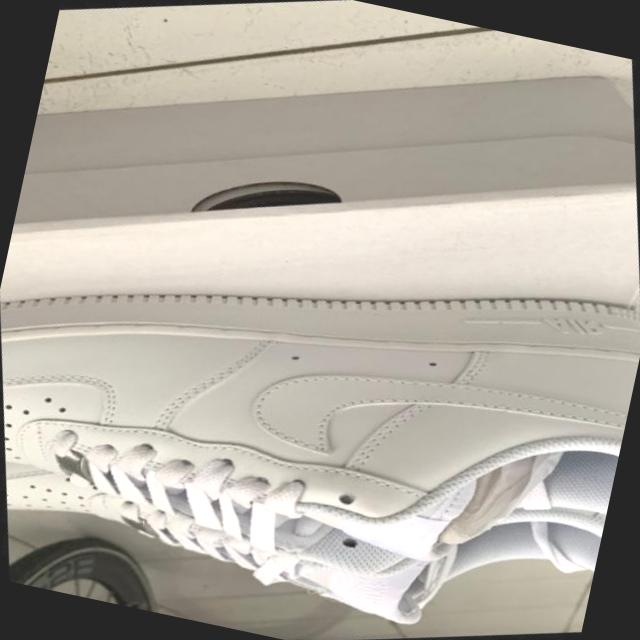nike_original_airforce: (0, 144, 640, 640), (0, 289, 627, 640)
